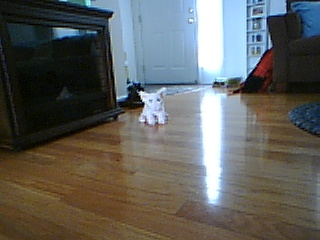piggy: (136, 86, 171, 127)
